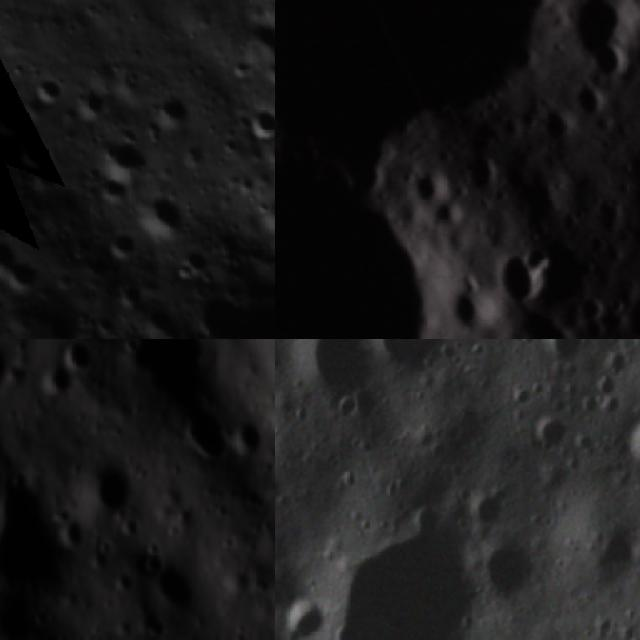crater: (275, 53, 595, 339), (275, 0, 591, 172), (85, 186, 275, 339), (319, 517, 496, 640), (0, 471, 74, 594), (76, 116, 154, 195), (172, 392, 244, 477), (483, 239, 558, 315), (122, 177, 196, 253), (438, 270, 513, 339), (560, 0, 640, 60), (295, 339, 373, 397), (520, 93, 584, 158), (400, 152, 460, 216), (475, 539, 534, 602), (148, 82, 203, 138), (564, 67, 619, 123), (460, 149, 514, 204), (589, 526, 640, 583), (94, 220, 147, 274), (365, 339, 449, 373), (424, 187, 476, 240), (4, 128, 57, 177), (0, 251, 49, 302), (275, 597, 333, 640), (234, 88, 275, 148), (22, 65, 71, 111), (0, 87, 31, 144), (0, 222, 27, 284), (55, 339, 100, 376), (463, 487, 501, 530), (32, 358, 72, 398), (526, 413, 566, 453), (613, 283, 640, 339), (331, 388, 364, 430), (539, 339, 585, 367), (620, 415, 640, 476)
